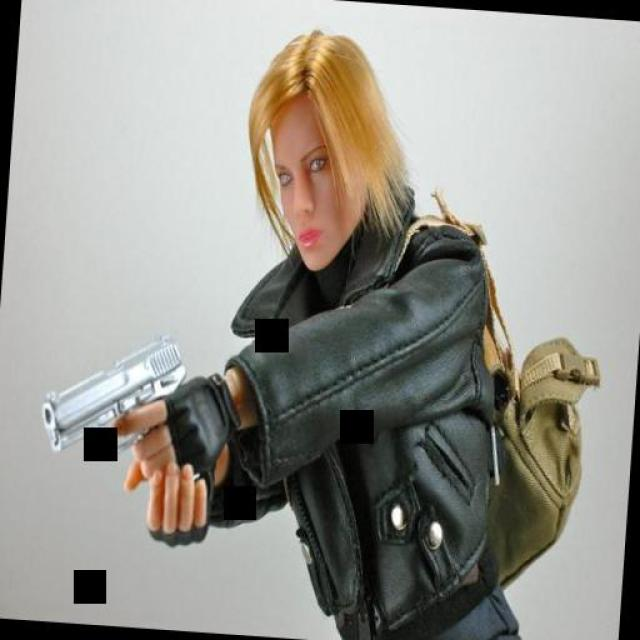gun: (25, 310, 203, 512)
